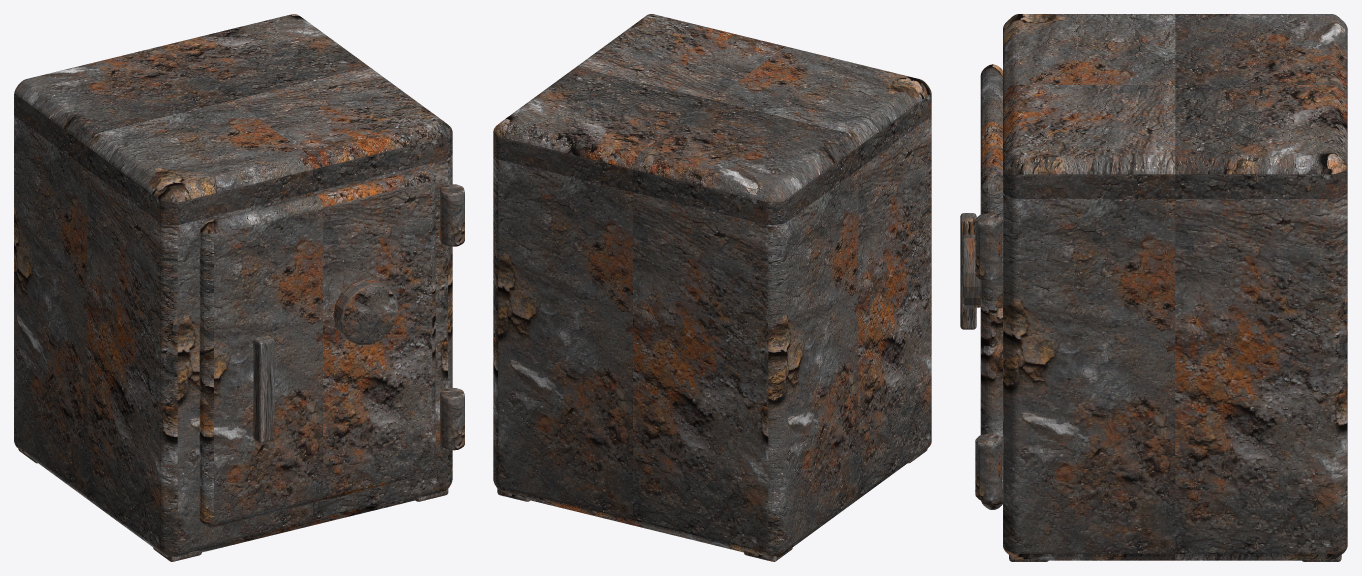
File: metal-safe-v01.glb
3 views of the same model, side by side, from view 1: azimuth 30°, elevation 25°; view 2: azimuth 150°, elevation 25°; view 3: azimuth 270°, elevation 25° (orthographic). The views are drawn at different scales.
Visible parts, largest first — view 1: metal-safe; view 2: metal-safe; view 3: metal-safe.
Part boxes in pixels (x1,y1,x2,y2): metal-safe: (14,14,464,561); metal-safe: (493,14,931,561); metal-safe: (960,14,1347,561).
Bounding box in the file's own units: 0.9 × 1.1 × 0.955.
3 materials, 3 textured.
